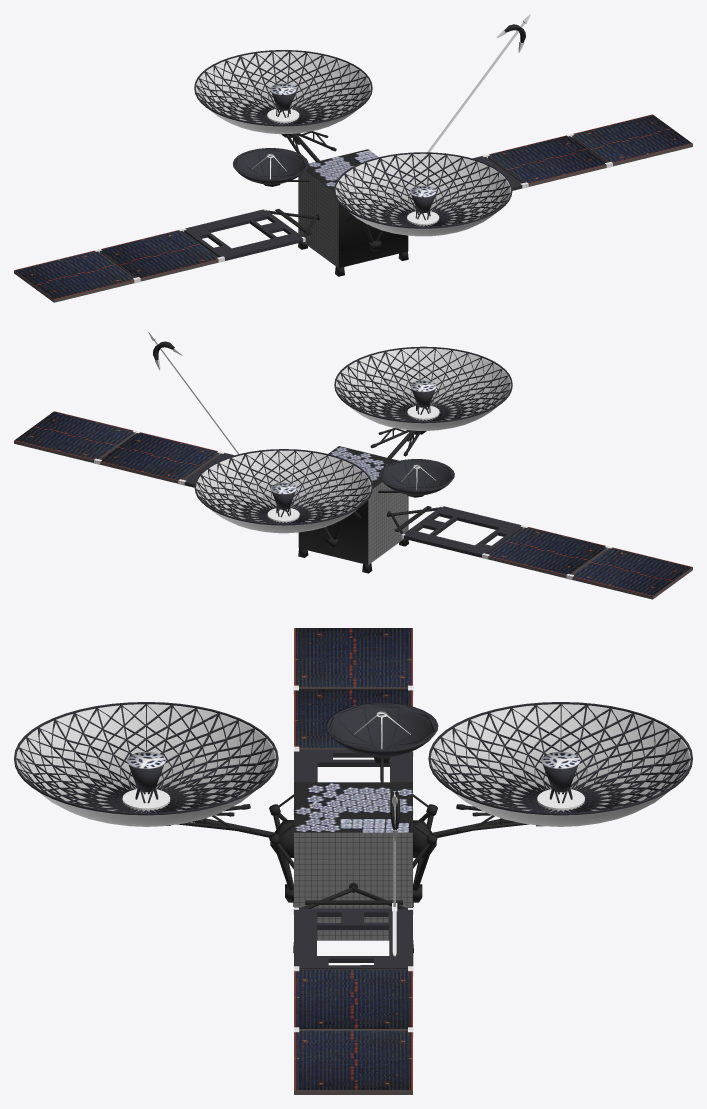
File: sc_tdrs.glb
3 views of the same model, one above another, from view 1: azimuth 30°, elevation 25°; view 2: azimuth 150°, elevation 25°; view 3: azimuth 270°, elevation 25° (orthographic). The views are drawn at different scales.
Visible parts, largest first — view 1: tex_01, shiny_panel, tex_02, black_krinkle, foil_silver; view 2: tex_01, shiny_panel, tex_02, black_krinkle, foil_silver; view 3: tex_01, shiny_panel, tex_02, black_krinkle, foil_silver.
Part boxes in pixels (bbox=[...]): tex_01: bbox=[184, 50, 522, 260]; shiny_panel: bbox=[14, 114, 692, 302]; tex_02: bbox=[195, 51, 510, 236]; black_krinkle: bbox=[263, 24, 525, 276]; foil_silver: bbox=[94, 14, 612, 283]; tex_01: bbox=[184, 346, 522, 557]; shiny_panel: bbox=[14, 411, 692, 599]; tex_02: bbox=[196, 348, 511, 533]; black_krinkle: bbox=[153, 341, 439, 573]; foil_silver: bbox=[94, 331, 612, 580]; tex_01: bbox=[14, 702, 692, 969]; shiny_panel: bbox=[294, 628, 412, 1094]; tex_02: bbox=[16, 704, 690, 826]; black_krinkle: bbox=[166, 757, 542, 953]; foil_silver: bbox=[122, 685, 584, 1036].
Bounding box in the file's own units: 1.69 × 0.4599 × 1.05.
5 materials, 3 textured.
